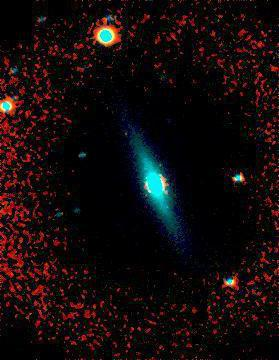star: (111, 119, 141, 149)
